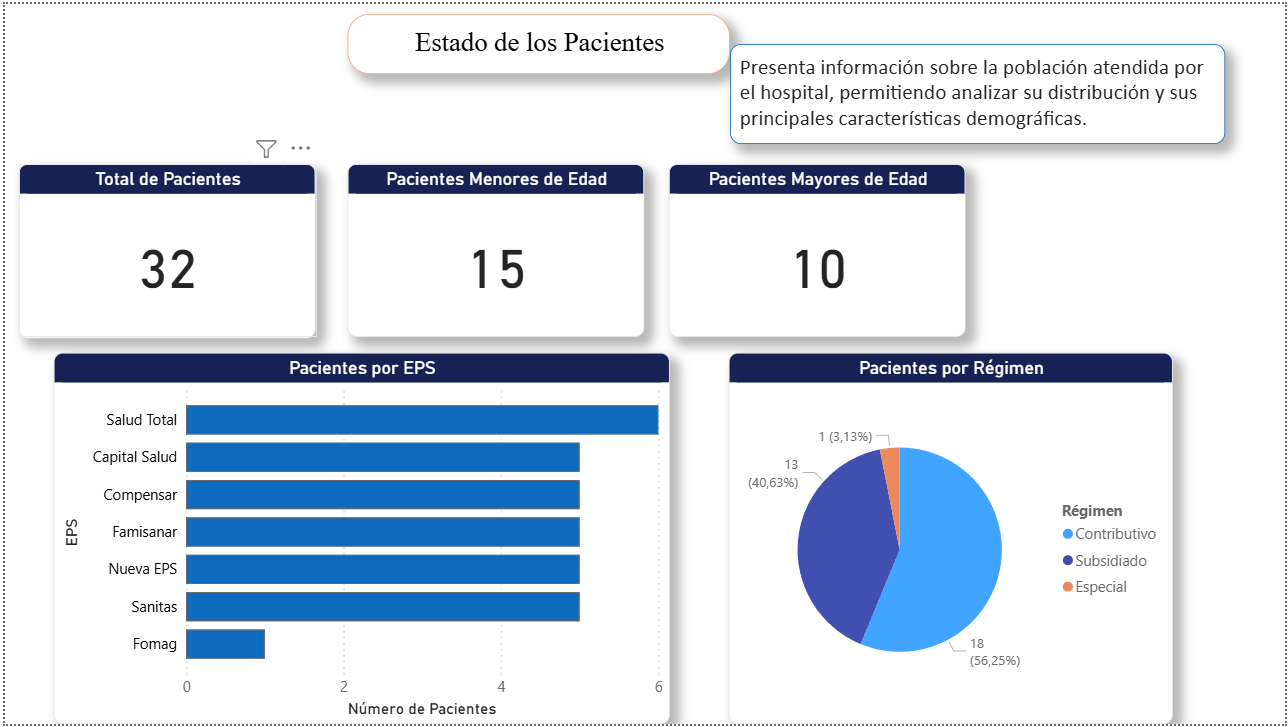

The page's visual inventory and layout, read from the dashboard file:
{"tool":"powerbi","page":{"name":"Pacientes","canvas":[1280,720],"ordinal":0},"visuals":[{"type":"card","title":"Total de Pacientes","fields":{"Values":["CountNonNull(proyecto_hospital pacientes.id_paciente)"]},"box":[14.3,160,297.1,174.3],"z":0},{"type":"barChart","title":"Pacientes por EPS","fields":{"Y":["CountNonNull(proyecto_hospital pacientes.id_paciente)"],"Category":["proyecto_hospital afiliaciones.entidad"]},"box":[48.6,348.6,615.7,371.4],"z":1000},{"type":"pieChart","title":"Pacientes por Régimen","fields":{"Category":["proyecto_hospital afiliaciones.regimen"],"Y":["CountNonNull(proyecto_hospital pacientes.id_paciente)"]},"box":[724.3,348.6,444.3,371.4],"z":2000},{"type":"card","title":"Pacientes Menores de Edad","fields":{"Values":["proyecto_hospital pacientes.Menores_de_Edad"]},"box":[342.9,160,297.1,172.9],"z":3000},{"type":"card","title":"Pacientes Mayores de Edad","fields":{"Values":["proyecto_hospital pacientes.Mayores_de_Edad"]},"box":[664.3,160,297.1,172.9],"z":4000},{"type":"textbox","box":[342.4,9.8,382.7,59.9],"z":5000},{"type":"textbox","box":[725.1,40.4,495.2,100.3],"z":6000}]}

Visuals, with their boxes in screenshot pixels (x1, y1, x2, y2), scaled from the page's 1280x720 canvas onto the 1288x727 screenshot:
"Total de Pacientes" card: [14,162,313,338]
"Pacientes por EPS" barChart: [49,352,668,726]
"Pacientes por Régimen" pieChart: [729,352,1176,726]
"Pacientes Menores de Edad" card: [345,162,644,336]
"Pacientes Mayores de Edad" card: [668,162,967,336]
textbox: [345,10,730,70]
textbox: [730,41,1228,142]
